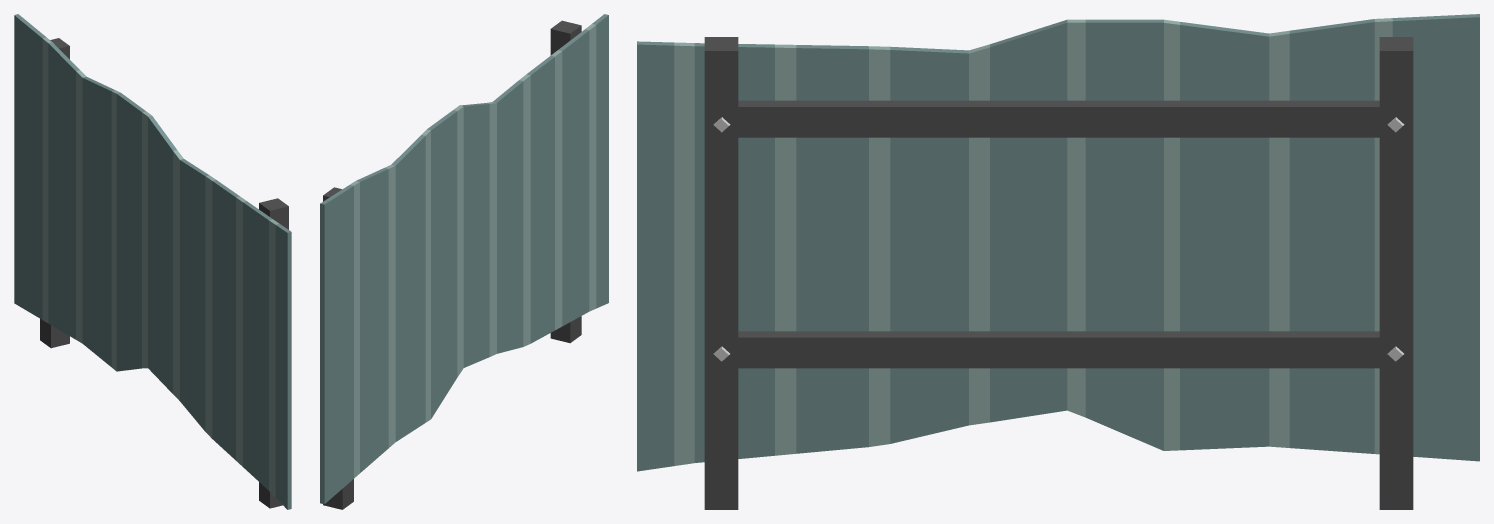
Rendered from SM_Fence_Metal_1.fbx.
3 views of the same model, side by side, from view 1: azimuth 30°, elevation 25°; view 2: azimuth 150°, elevation 25°; view 3: azimuth 270°, elevation 25° (orthographic). The views are drawn at different scales.
Parts seen in each view (by area): view 1: SM_Fence_Metal_1_LOD0; view 2: SM_Fence_Metal_1_LOD0; view 3: SM_Fence_Metal_1_LOD0.
Part boxes in pixels (box(x1,y1,x2,y2)): SM_Fence_Metal_1_LOD0: box(14, 14, 291, 509); SM_Fence_Metal_1_LOD0: box(320, 14, 608, 509); SM_Fence_Metal_1_LOD0: box(637, 14, 1479, 509).
Bounding box in the file's own units: 26.11 × 499 × 313.
1 material, 1 textured.
